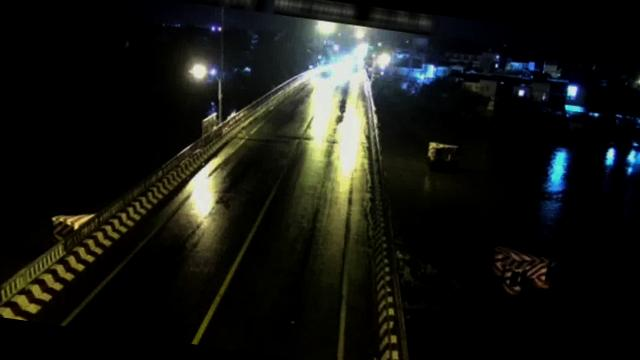Bike: (338, 95, 348, 116)
